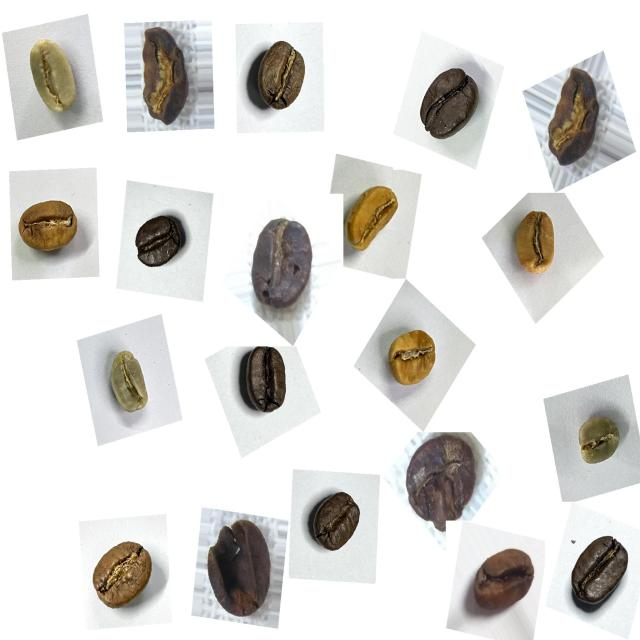bad: (393, 425, 486, 541), (194, 509, 280, 626), (532, 61, 610, 176), (241, 208, 321, 320), (128, 20, 198, 132), (462, 532, 542, 622)
dark: (405, 53, 486, 154), (560, 525, 638, 617), (230, 336, 303, 424), (126, 197, 192, 280)
green: (19, 30, 91, 127), (562, 398, 628, 479), (98, 340, 163, 420)
light: (332, 169, 408, 266), (374, 312, 450, 401), (12, 182, 91, 267), (502, 196, 573, 284)
medium: (79, 527, 166, 624), (240, 34, 316, 124), (303, 480, 372, 566)
